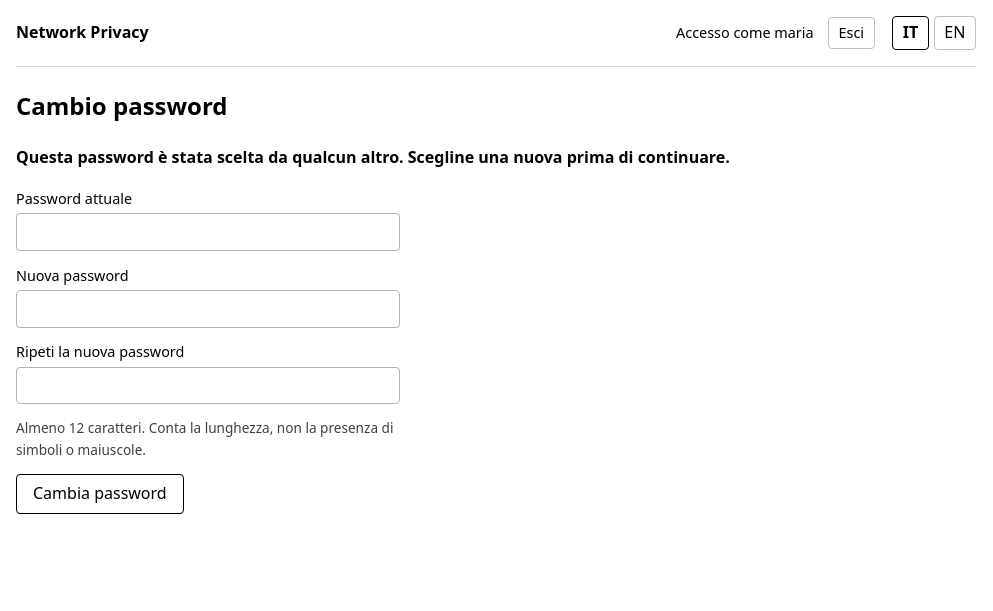
Test: Passwords › says why the engine refused a new password, in the reader’s language
In the password field named "currentPassword": (208, 232) x1=16 y1=213 x2=400 y2=251, type "the-same-password"
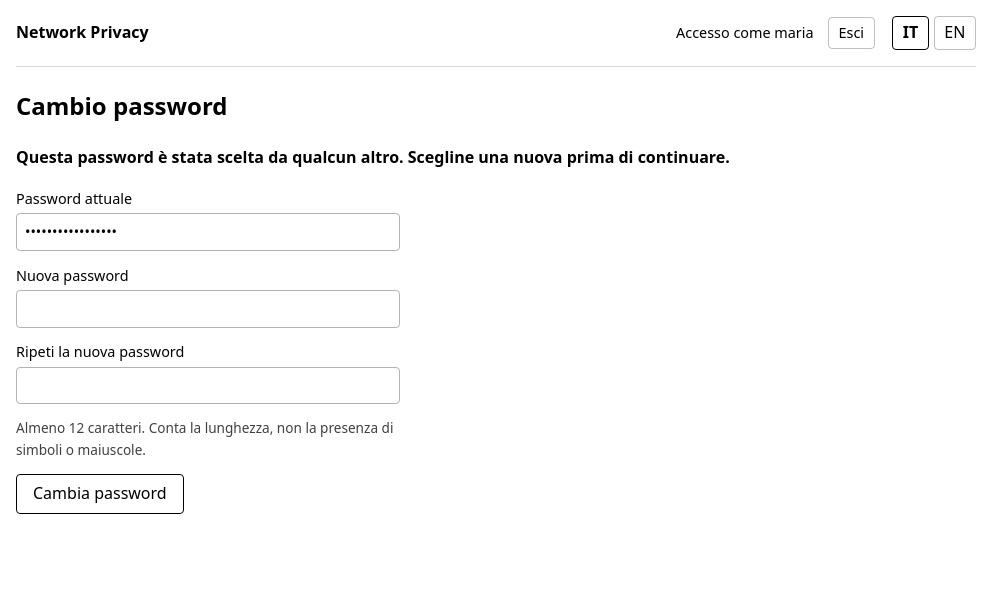
In the password field named "newPassword": (208, 309) x1=16 y1=290 x2=400 y2=328, type "the-same-password"
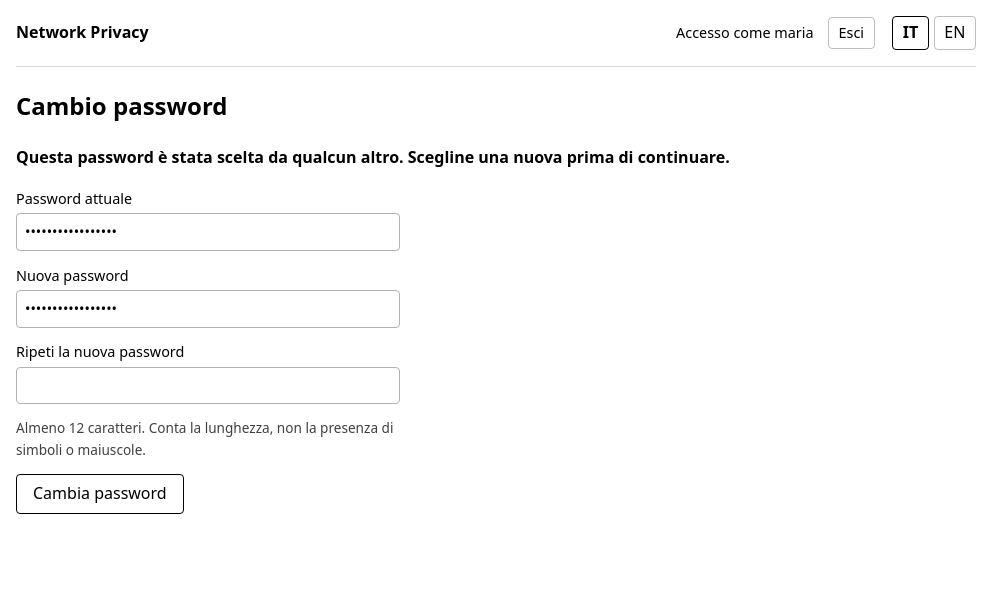
In the password field named "repeatedPassword": (208, 386) x1=16 y1=367 x2=400 y2=404, type "the-same-password"
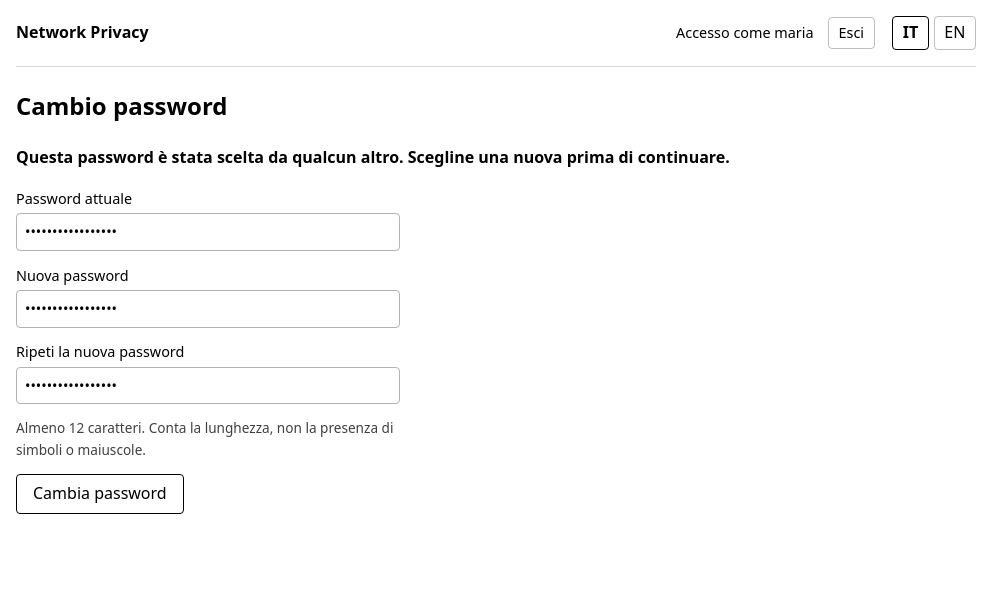
Submit the form, box x1=16 y1=187 x2=400 y2=514
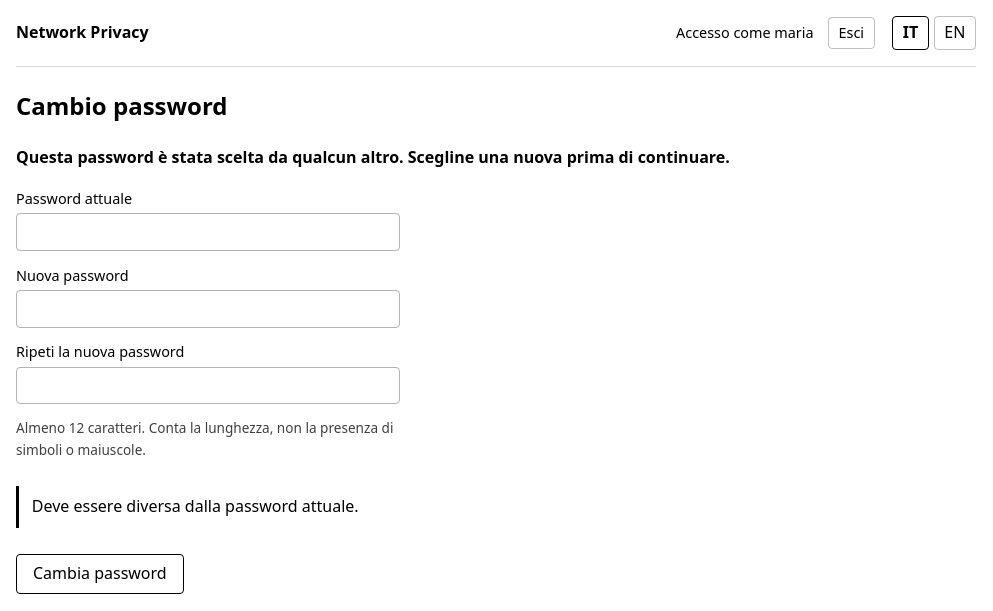
Now the message "Deve essere diversa dalla password attuale." is shown, box x1=16 y1=486 x2=400 y2=528
